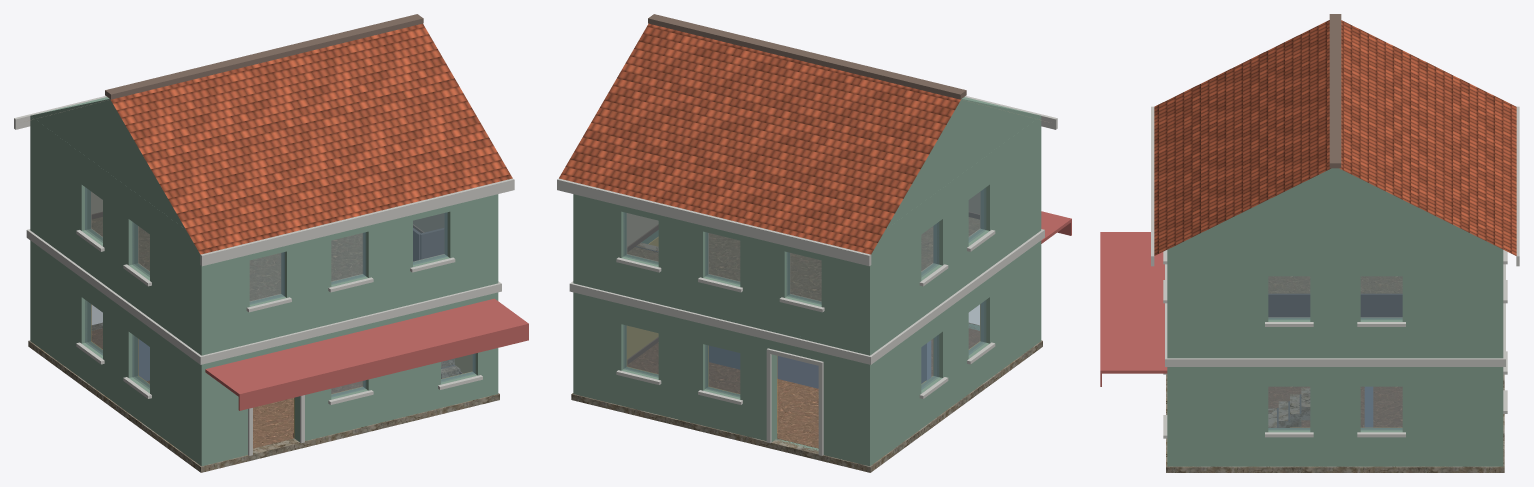
Rendered from cove-house-green.coast-v2.lod0.glb.
3 views of the same model, side by side, from view 1: azimuth 30°, elevation 25°; view 2: azimuth 150°, elevation 25°; view 3: azimuth 270°, elevation 25° (orthographic). The views are drawn at different scales.
Parts seen in each view (by area): view 1: cove-house-green; view 2: cove-house-green; view 3: cove-house-green.
Part boxes in pixels (x1,y1,x2,y2): cove-house-green: (14, 14, 528, 472); cove-house-green: (557, 14, 1071, 472); cove-house-green: (1100, 14, 1519, 472).
Bounding box in the file's own units: 8.42 × 8.22 × 9.99.
Materials: 5 (3 with a texture image).
